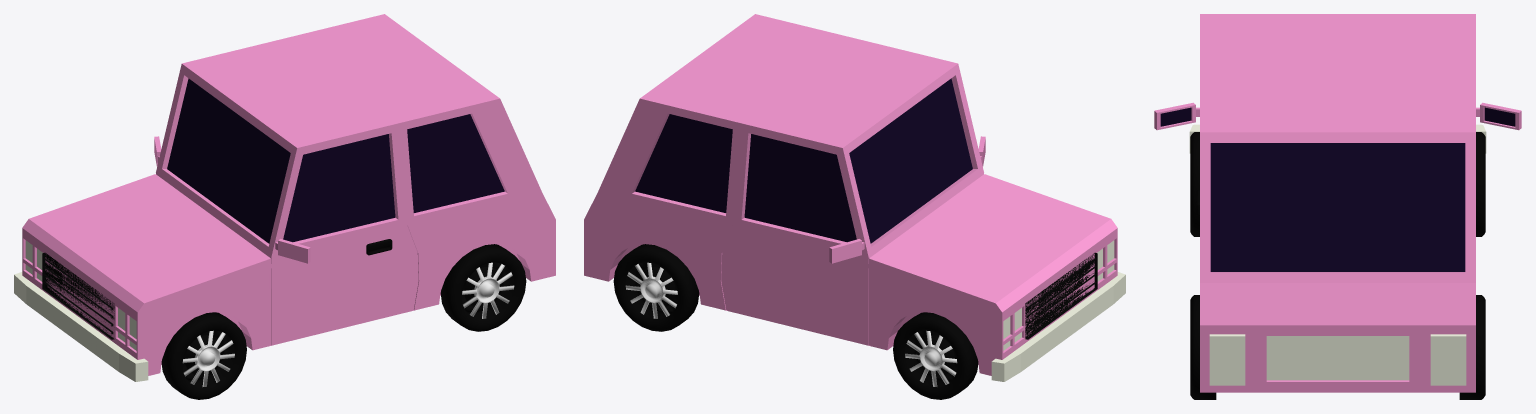
3 renders of one model, left to right at view 1: azimuth 30°, elevation 25°; view 2: azimuth 150°, elevation 25°; view 3: azimuth 270°, elevation 25°, orthographic. The views are drawn at different scales.
Visible parts, largest first — view 1: Vert; view 2: Vert; view 3: Vert.
Part boxes in pixels (x1,y1,x2,y2): Vert: (14,14,555,399); Vert: (584,14,1125,399); Vert: (1154,14,1521,399).
Size of the model in its own units: 434 by 220 by 269.
